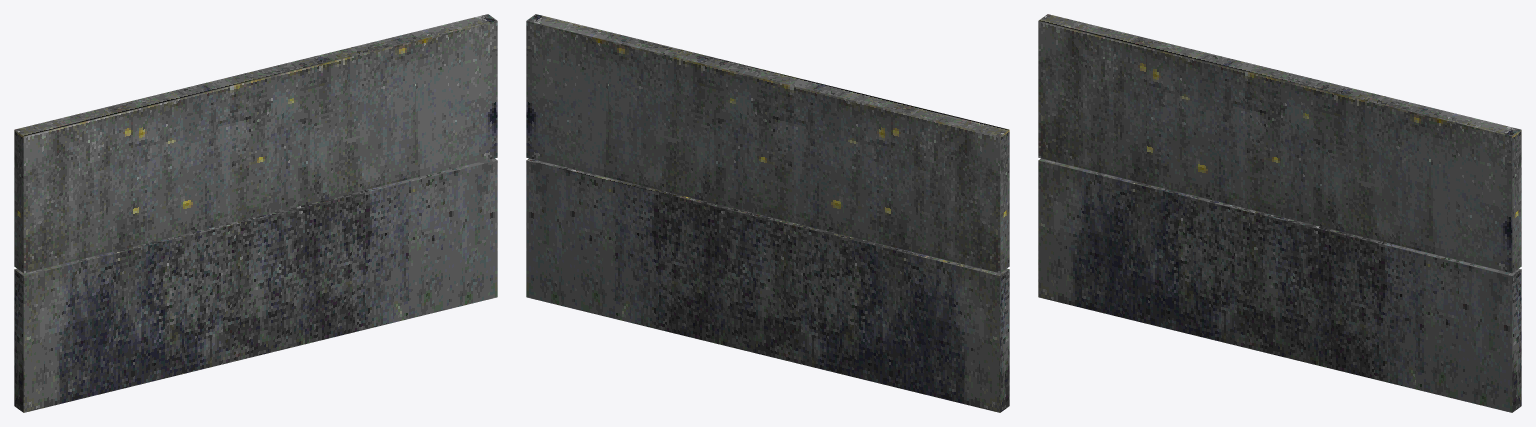
Rendered from plackard_slab_half.glb.
3 views of the same model, side by side, from view 1: azimuth 30°, elevation 25°; view 2: azimuth 150°, elevation 25°; view 3: azimuth 330°, elevation 25° (orthographic).
Parts seen in each view (by area): view 1: plackard_slab_half; view 2: plackard_slab_half; view 3: plackard_slab_half.
Boxes of the visible parts, left/top/right/bottom form: plackard_slab_half: left=14, top=14, right=497, bottom=412; plackard_slab_half: left=526, top=14, right=1009, bottom=412; plackard_slab_half: left=1038, top=14, right=1521, bottom=412.
Bounding box in the file's own units: 2.9 × 1.62 × 0.1.
1 material, 1 textured.
